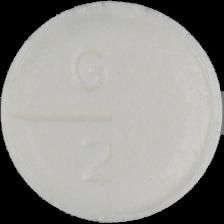50090-0152: (0, 0, 224, 224)
